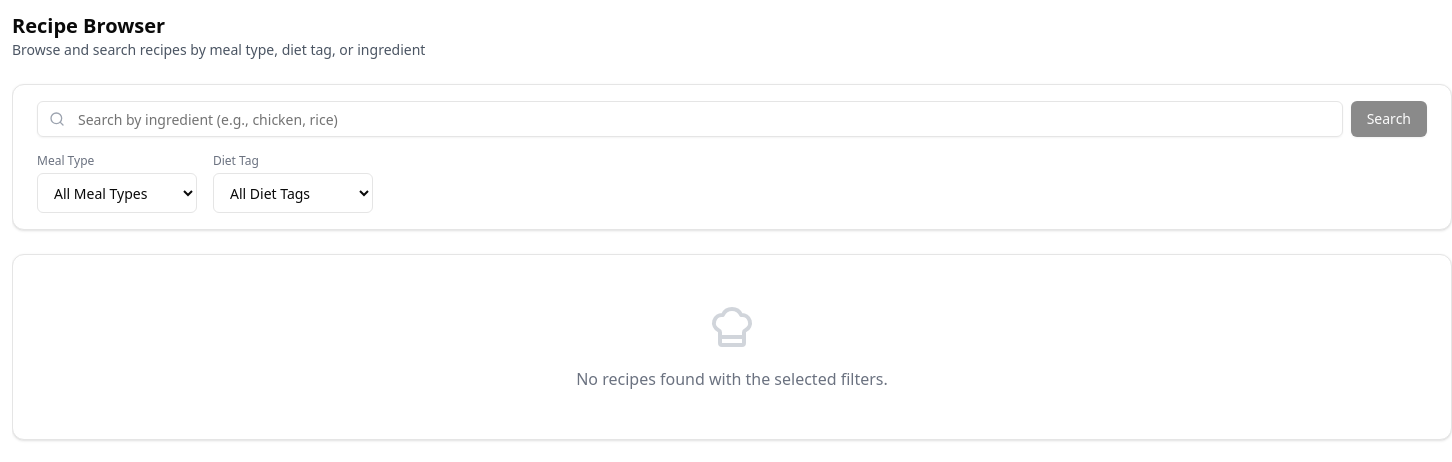
Test: RecipeBrowser › ingredient search › should show active search indicator when searching
Type "chicken" into the field with placeholder "Search by ingredient (e.g., chicken, rice)" at point(690, 119), box left=37, top=101, right=1343, bottom=137
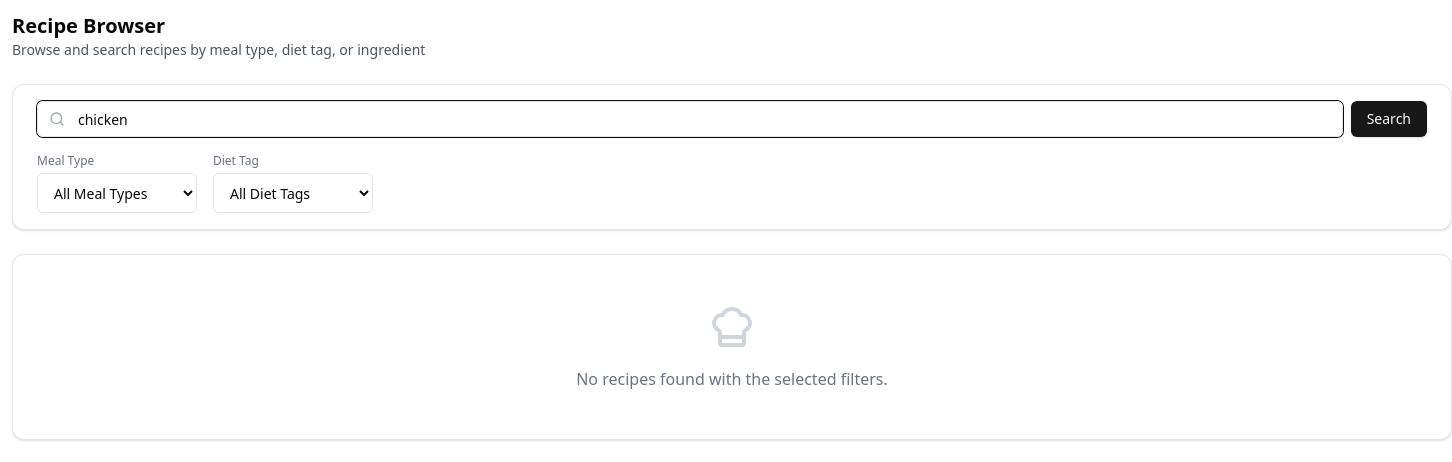
Click the button "Search" at point(1389, 119), box left=1351, top=101, right=1427, bottom=137
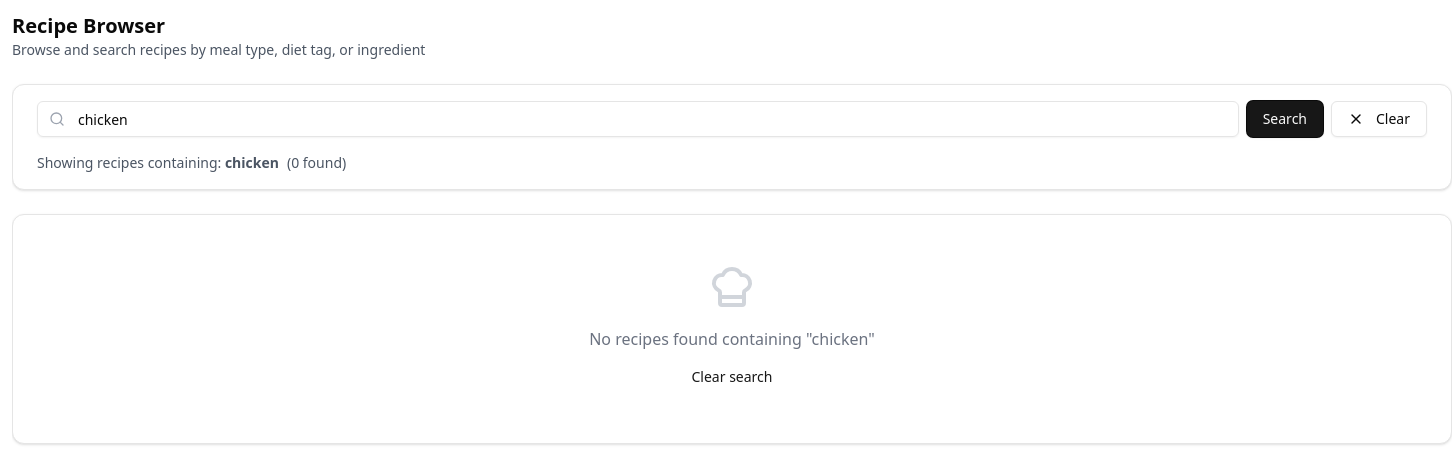
Expected: the text "Showing recipes containing: chicken" is shown, left=37, top=153, right=279, bottom=173
Expected: the text "chicken" is shown, left=225, top=153, right=279, bottom=172
